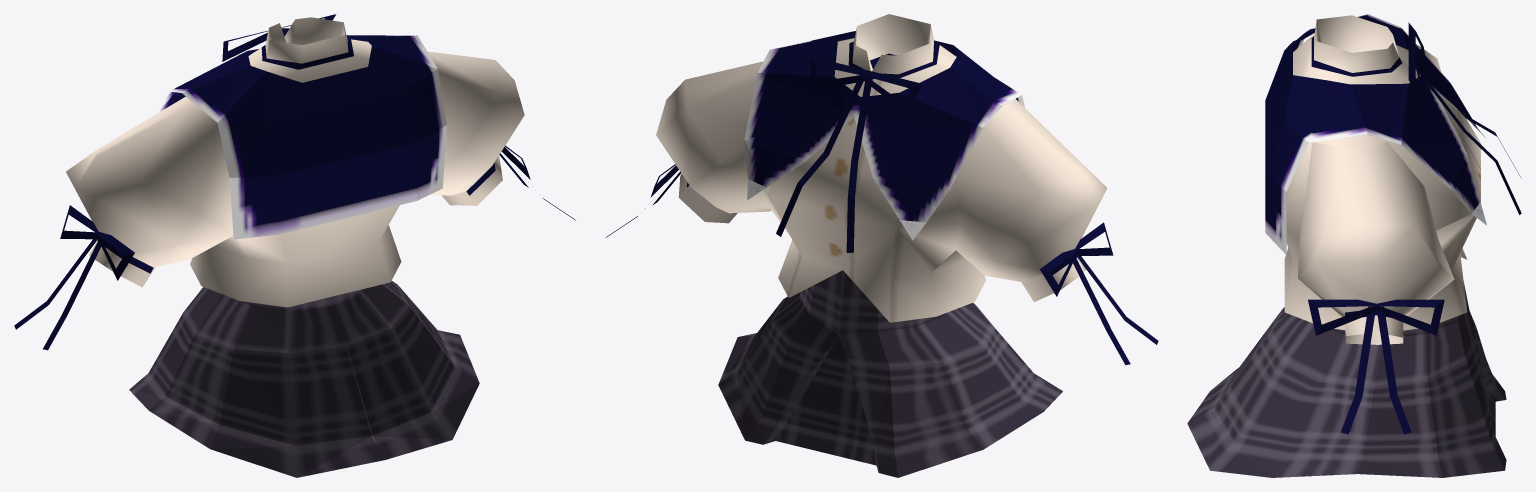
The model's file is icon.ico.obj.
3 renders of one model, left to right at view 1: azimuth 30°, elevation 25°; view 2: azimuth 150°, elevation 25°; view 3: azimuth 270°, elevation 25°, orthographic. The views are drawn at different scales.
Size of the model in its own units: 4.68 by 3.21 by 2.43.
Materials: 1 (1 with a texture image).
